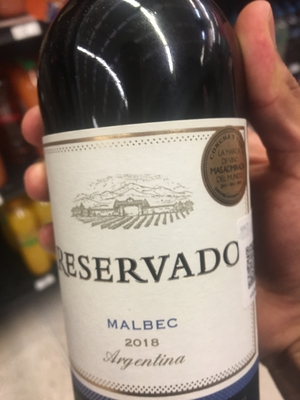reservado malbec: (38, 11, 271, 399)
